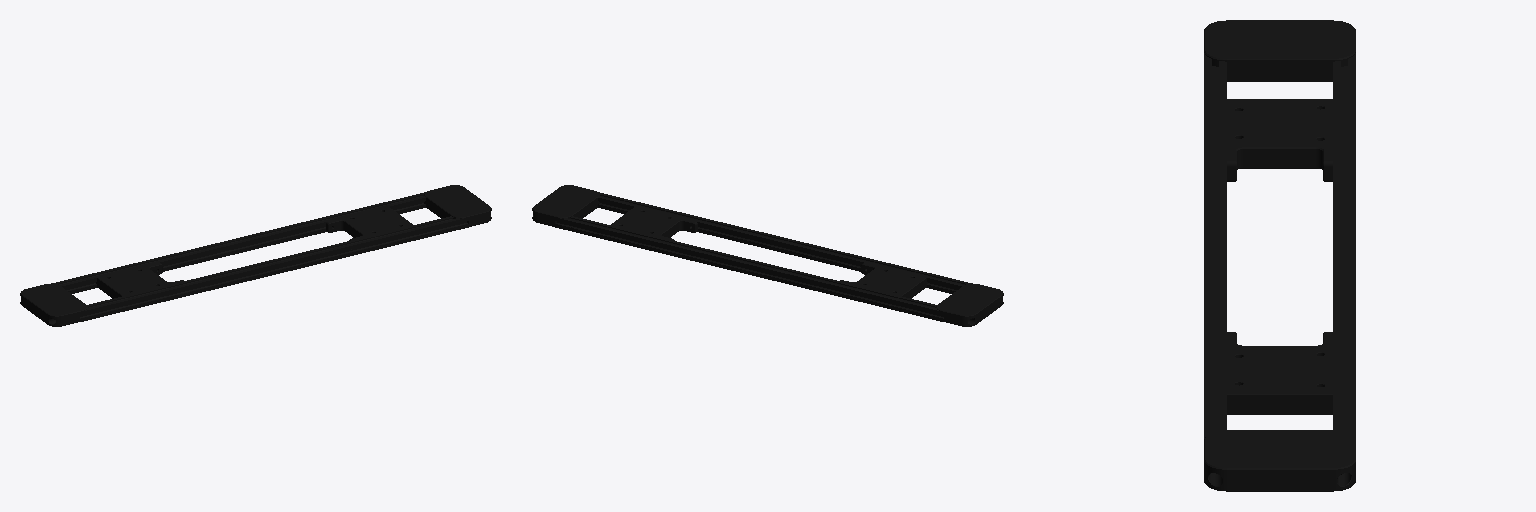
URDF robot description (so101_base):
<?xml version="1.0"?>
<!--
  SO-101 Base URDF

  Standalone URDF for the SO-101 arm base using the unified base mesh.
-->
<robot name="so101_base">

	<!-- Material definition -->
	<material name="3d_printed">
		<color rgba="0.12 0.12 0.12 1.0" />
	</material>

	<!-- Base link -->
	<link name="base_link">
		<inertial>
			<origin xyz="0.020739 0.00204287 0.065966" rpy="0 0 0" />
			<mass value="0.147" />
			<inertia ixx="0.000136117" ixy="4.59787e-07" ixz="9.75275e-08"
			         iyy="0.000114686" iyz="-4.97151e-06" izz="0.000130364" />
		</inertial>

		<!-- Visual representation -->
		<visual>
			<origin xyz="0 0 0" rpy="0 0 0" />
			<geometry>
				<mesh filename="package://lerobot_description/meshes/so101/so101_arm_base.stl"
				      scale="0.001 0.001 0.001" />
			</geometry>
			<material name="3d_printed" />
		</visual>

		<!-- Collision geometry -->
		<collision>
			<origin xyz="0 0 0" rpy="0 0 0" />
			<geometry>
				<mesh filename="package://lerobot_description/meshes/so101/so101_arm_base.stl"
				      scale="0.001 0.001 0.001" />
			</geometry>
		</collision>
	</link>

</robot>

--- What the picture shows (computed from the rendered views, not written in the file) ---
The picture shows the robot from 3 angles, left to right: view 1: azimuth 30°, elevation 25°; view 2: azimuth 150°, elevation 25°; view 3: azimuth 270°, elevation 25°; orthographic projection.
Robot: so101_base — 1 links, 0 joints (none); root link base_link; default pose: every joint at zero.
Visible links, largest first — view 1: base_link; view 2: base_link; view 3: base_link.
Link boxes in pixels (left/top/right/bottom): base_link: left=20, top=185, right=491, bottom=326; base_link: left=532, top=185, right=1003, bottom=326; base_link: left=1204, top=20, right=1355, bottom=491.
Bounding box of the posed robot: 0.91 × 0.13 × 0.022 m (x, y, z).
1 mesh visuals loaded from 1 distinct referenced files (1 binary STL).
